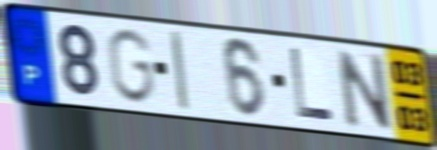6: (221, 36, 268, 121)
8: (56, 21, 102, 100)
G: (104, 26, 157, 107)
I: (167, 29, 192, 114)
L: (287, 46, 336, 125)
N: (333, 46, 396, 132)
